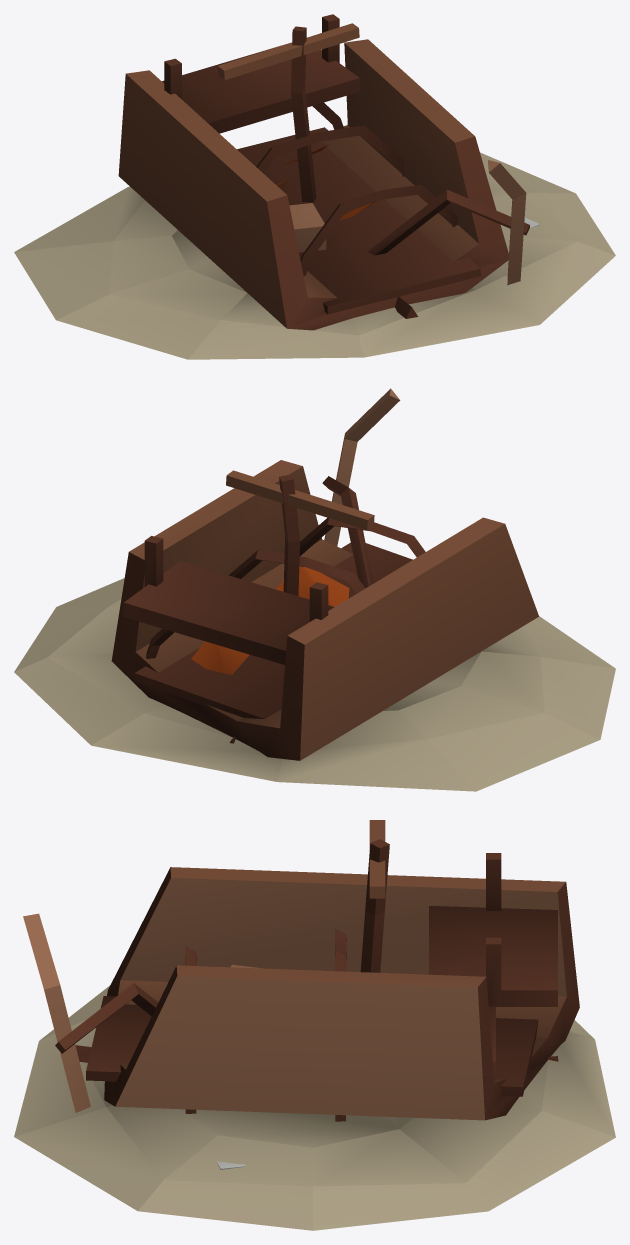
Rendered from n_wreck_large.glb.
3 views of the same model, one above another, from view 1: azimuth 30°, elevation 25°; view 2: azimuth 150°, elevation 25°; view 3: azimuth 270°, elevation 25° (orthographic). The views are drawn at different scales.
Parts seen in each view (by area): view 1: body; view 2: body; view 3: body.
Part boxes in pixels (x1=…): body: x1=14, y1=14, x2=615, y2=359; body: x1=14, y1=388, x2=615, y2=791; body: x1=14, y1=820, x2=615, y2=1230.
Size of the model in its own units: 2.77 by 1.04 by 2.33.
